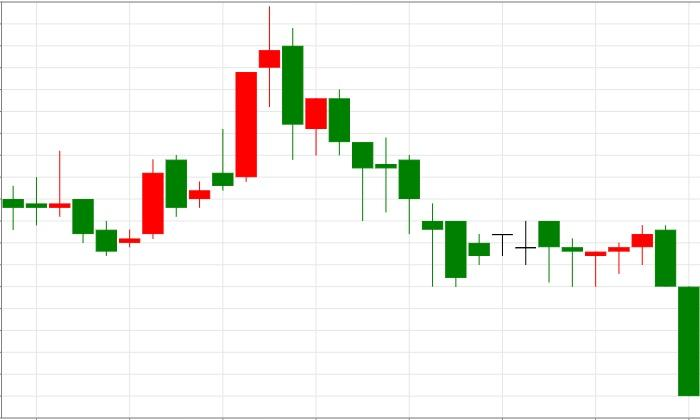bearish_engulfing_fall: (584, 225, 677, 287)
